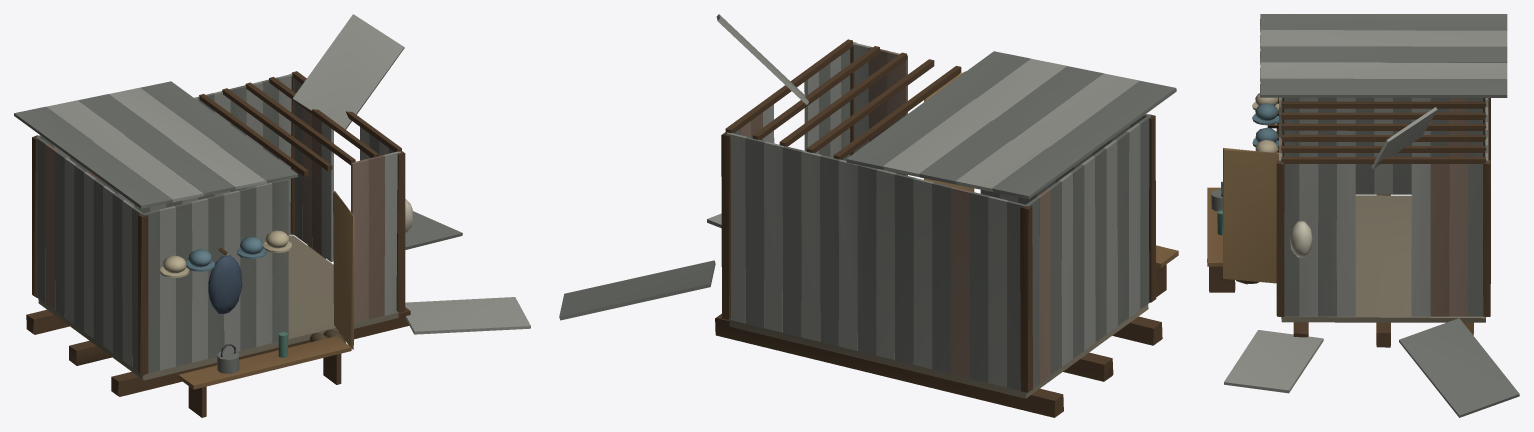
Rendered from change_house_b_lod2.glb.
3 renders of one model, left to right at view 1: azimuth 30°, elevation 25°; view 2: azimuth 150°, elevation 25°; view 3: azimuth 270°, elevation 25°, orthographic. The views are drawn at different scales.
Parts seen in each view (by area): view 1: Surface.001; view 2: Surface.001; view 3: Surface.001.
Part boxes in pixels (bbox=[...]): Surface.001: bbox=[14, 14, 530, 417]; Surface.001: bbox=[559, 14, 1178, 417]; Surface.001: bbox=[1207, 14, 1519, 417].
Size of the model in its own units: 7.03 by 4.07 by 4.55.
